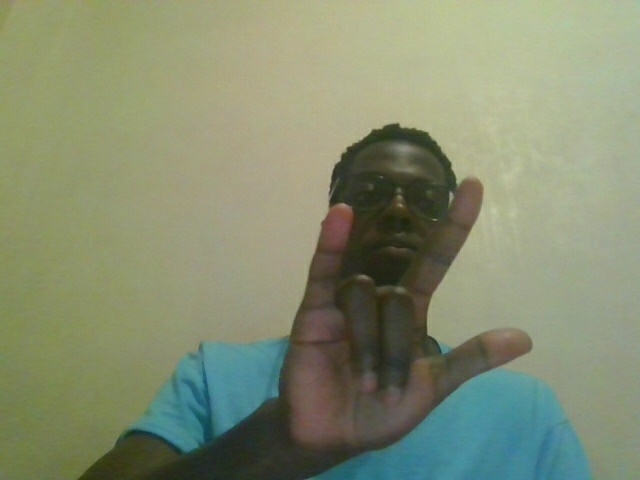I Love You: (273, 175, 542, 465)
